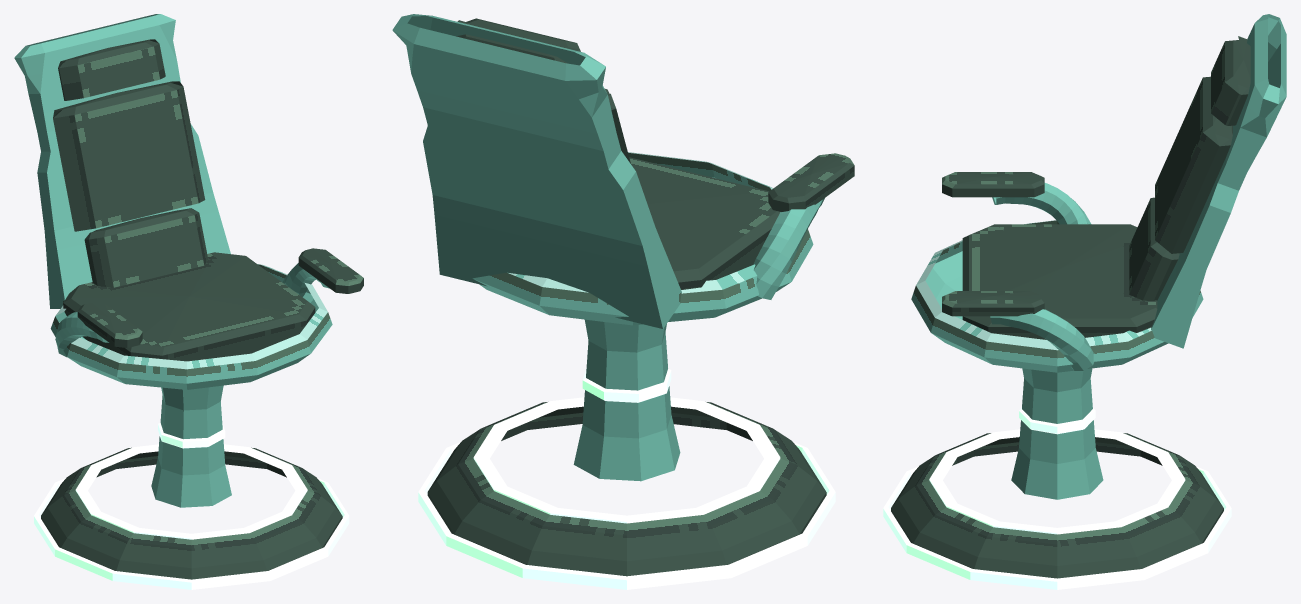
The model's file is office-chair.gltf.
The picture shows the model from 3 angles, left to right: view 1: azimuth 30°, elevation 25°; view 2: azimuth 150°, elevation 25°; view 3: azimuth 270°, elevation 25°; orthographic projection. The views are drawn at different scales.
Visible parts, largest first — view 1: BackCushion_Main, SeatCushion, PuckBase, BackRest, SeatShell, SupportPost, BackCushion_Lumbar, BackCushion_Head, PuckGlowRim, PuckTopRing, ArmPad_+1, ArmPad_-1 (+3 smaller); view 2: BackRest, PuckBase, SupportPost, SeatCushion, SeatShell, PuckGlowRim, PuckTopRing, ArmPad_-1, ArmTube_-1, BackCushion_Head, PostGlow; view 3: PuckBase, SeatCushion, BackRest, SupportPost, SeatShell, BackCushion_Main, PuckGlowRim, PuckTopRing, BackCushion_Lumbar, BackCushion_Head, ArmPad_-1, ArmPad_+1 (+3 smaller).
Part boxes in pixels (x1,y1,x2,y2): BackCushion_Main: [53, 81, 205, 231]; SeatCushion: [63, 252, 315, 361]; PuckBase: [41, 447, 342, 579]; BackRest: [14, 14, 230, 308]; SeatShell: [50, 264, 332, 389]; SupportPost: [151, 385, 231, 507]; BackCushion_Lumbar: [84, 208, 207, 287]; BackCushion_Head: [58, 39, 165, 100]; PuckGlowRim: [34, 478, 349, 589]; PuckTopRing: [75, 444, 307, 539]; ArmPad_+1: [298, 248, 363, 293]; ArmPad_-1: [77, 302, 142, 347]; BackRest: [392, 14, 681, 328]; PuckBase: [427, 402, 826, 576]; SupportPost: [573, 319, 680, 481]; SeatCushion: [629, 157, 780, 289]; SeatShell: [472, 152, 813, 325]; PuckGlowRim: [418, 442, 835, 589]; PuckTopRing: [473, 397, 780, 523]; ArmPad_-1: [768, 153, 854, 211]; ArmTube_-1: [753, 198, 824, 299]; BackCushion_Head: [456, 18, 580, 63]; PostGlow: [582, 368, 671, 402]; PuckBase: [891, 433, 1223, 578]; SeatCushion: [962, 224, 1157, 339]; BackRest: [1151, 14, 1286, 348]; SupportPost: [1011, 368, 1103, 499]; SeatShell: [911, 220, 1203, 372]; BackCushion_Main: [1155, 76, 1232, 253]; PuckGlowRim: [883, 466, 1231, 589]; PuckTopRing: [929, 429, 1185, 534]; BackCushion_Lumbar: [1129, 197, 1179, 300]; BackCushion_Head: [1211, 36, 1250, 125]; ArmPad_-1: [942, 172, 1044, 197]; ArmPad_+1: [942, 291, 1044, 316].
Size of the model in its own units: 1.36 by 2.02 by 1.58.
4 materials, 4 textured.
